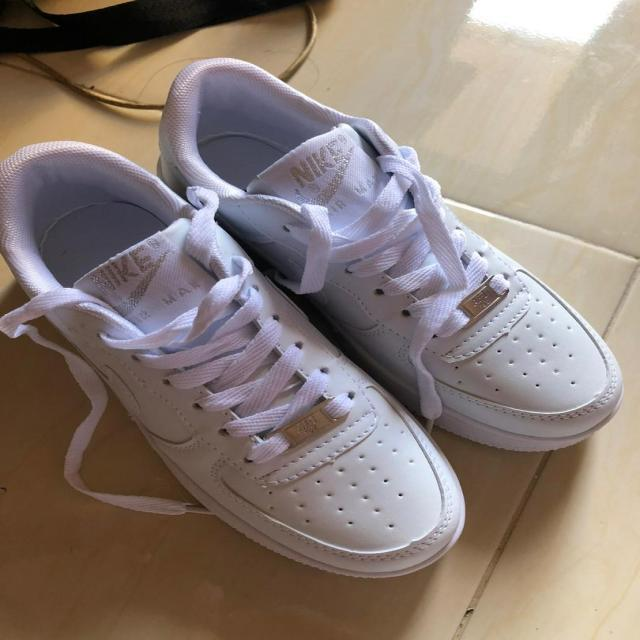nike fake air force: (0, 140, 486, 580), (158, 58, 624, 454)
